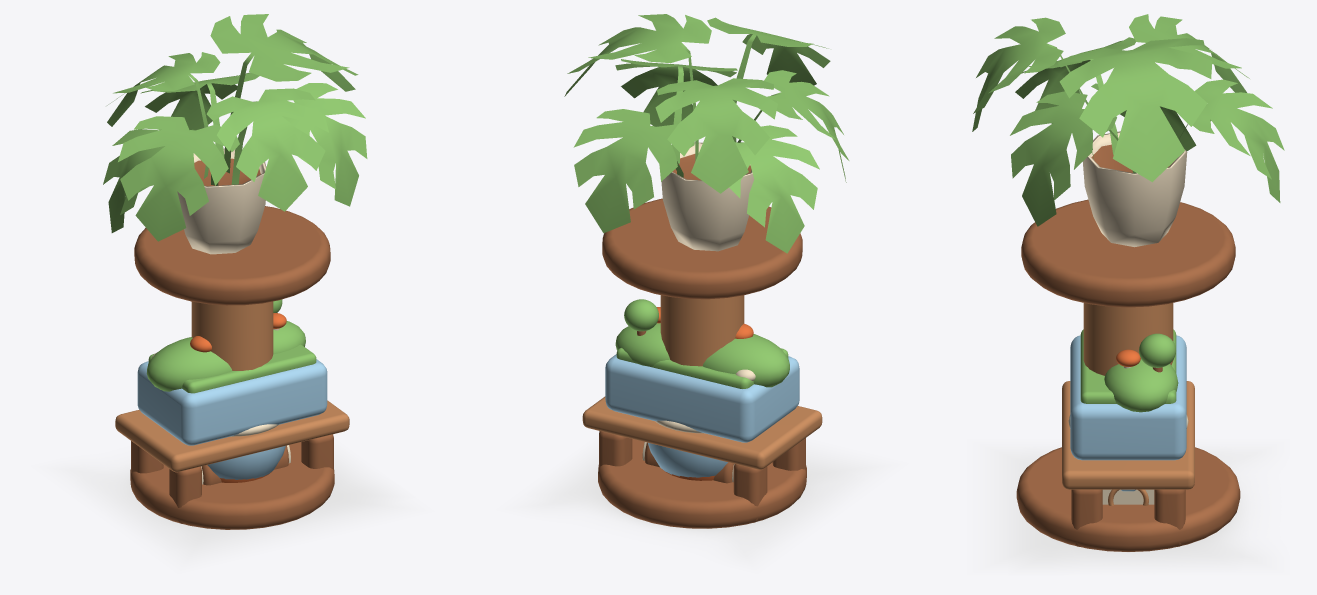
The model's file is interest_nature_v1_draco_webp.glb.
The picture shows the model from 3 angles, left to right: view 1: azimuth 30°, elevation 25°; view 2: azimuth 150°, elevation 25°; view 3: azimuth 270°, elevation 25°; orthographic projection. The views are drawn at different scales.
Parts seen in each view (by area): view 1: plant_stand_plant_body, plant_stand_top, shadow_plant_stand, terrarium_bench_box, plant_stand_base, terrarium_bench_top, plant_stand_post, shadow_terrarium_bench, terrarium_bench_hill_-0.1, terrarium_bench_moss, fish_bowl_glass, terrarium_bench_leg_-0.2_-0.1 (+3 smaller); view 2: plant_stand_plant_body, plant_stand_top, shadow_plant_stand, terrarium_bench_box, plant_stand_base, terrarium_bench_top, plant_stand_post, terrarium_bench_hill_-0.1, shadow_terrarium_bench, fish_bowl_glass, terrarium_bench_hill_0.11, terrarium_bench_moss (+4 smaller); view 3: plant_stand_plant_body, plant_stand_top, shadow_plant_stand, plant_stand_base, terrarium_bench_box, terrarium_bench_top, plant_stand_post, shadow_terrarium_bench, terrarium_bench_hill_0.11, terrarium_bench_moss, terrarium_bench_leg_0.2_0.1, terrarium_bench_leg_0.2_-0.1 (+2 smaller).
Boxes of the visible parts, x1,y1,x2,y2 form: plant_stand_plant_body: (103,14,367,254); plant_stand_top: (134,206,330,305); shadow_plant_stand: (50,451,414,565); terrarium_bench_box: (137,359,327,445); plant_stand_base: (130,442,334,529); terrarium_bench_top: (115,400,349,472); plant_stand_post: (191,301,273,370); shadow_terrarium_bench: (106,458,395,539); terrarium_bench_hill_-0.1: (146,337,232,391); terrarium_bench_moss: (148,344,316,393); fish_bowl_glass: (207,446,285,479); terrarium_bench_leg_-0.2_-0.1: (169,466,201,523); plant_stand_plant_body: (564,14,849,253); plant_stand_top: (602,198,802,299); shadow_plant_stand: (516,445,888,565); terrarium_bench_box: (605,354,799,442); plant_stand_base: (598,439,806,528); terrarium_bench_top: (582,396,822,469); plant_stand_post: (660,295,744,366); terrarium_bench_hill_-0.1: (703,334,789,387); shadow_terrarium_bench: (568,459,826,537); fish_bowl_glass: (648,443,727,477); terrarium_bench_hill_0.11: (615,323,669,366); terrarium_bench_moss: (616,348,788,388); plant_stand_plant_body: (972,14,1284,247); plant_stand_top: (1021,199,1235,307); shadow_plant_stand: (982,445,1274,568); plant_stand_base: (1016,447,1240,551); terrarium_bench_box: (1070,335,1186,460); terrarium_bench_top: (1062,381,1194,489); plant_stand_post: (1083,303,1173,375); shadow_terrarium_bench: (1020,514,1236,567); terrarium_bench_hill_0.11: (1104,359,1178,412); terrarium_bench_moss: (1080,329,1176,403); terrarium_bench_leg_0.2_0.1: (1154,489,1185,546); terrarium_bench_leg_0.2_-0.1: (1071,489,1102,546).
Bounding box in the file's own units: 0.7822 × 1.19 × 0.78.
7 materials, 1 textured.
